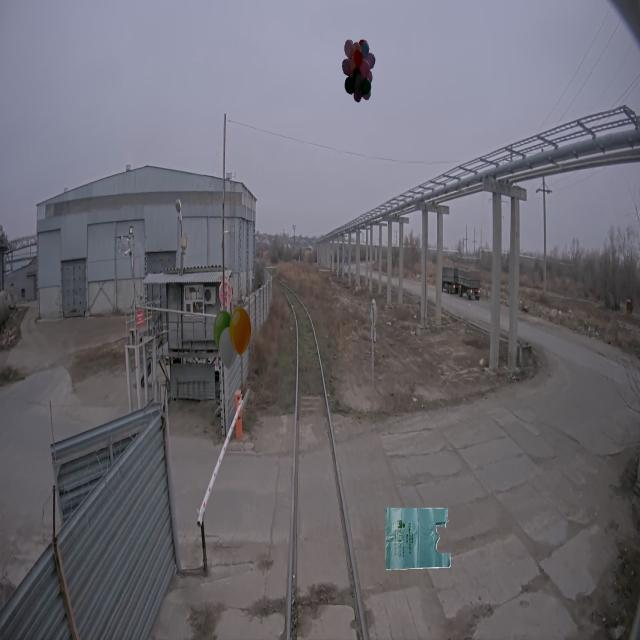balloon: (213, 307, 251, 371), (342, 38, 375, 102)
plastic bag: (385, 506, 451, 570)
